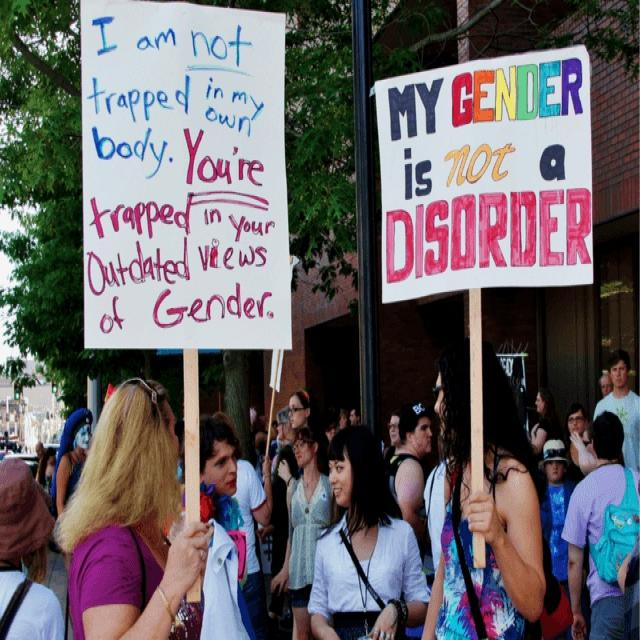body: (413, 332, 552, 639), (51, 370, 209, 638), (252, 369, 616, 484), (304, 417, 439, 639), (560, 408, 640, 640), (268, 424, 339, 640), (0, 453, 67, 640), (536, 437, 589, 640), (220, 450, 275, 640), (199, 418, 248, 590), (383, 399, 434, 561), (49, 406, 95, 578), (589, 347, 639, 492), (286, 385, 330, 480), (20, 423, 70, 501)
